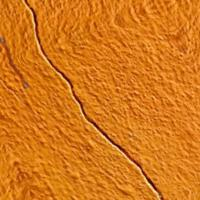crack: (18, 0, 167, 199)
